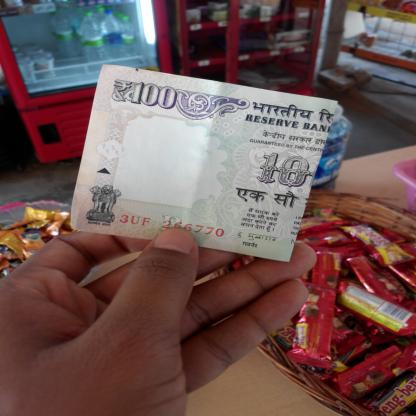Old100Front: (72, 63, 338, 262)
